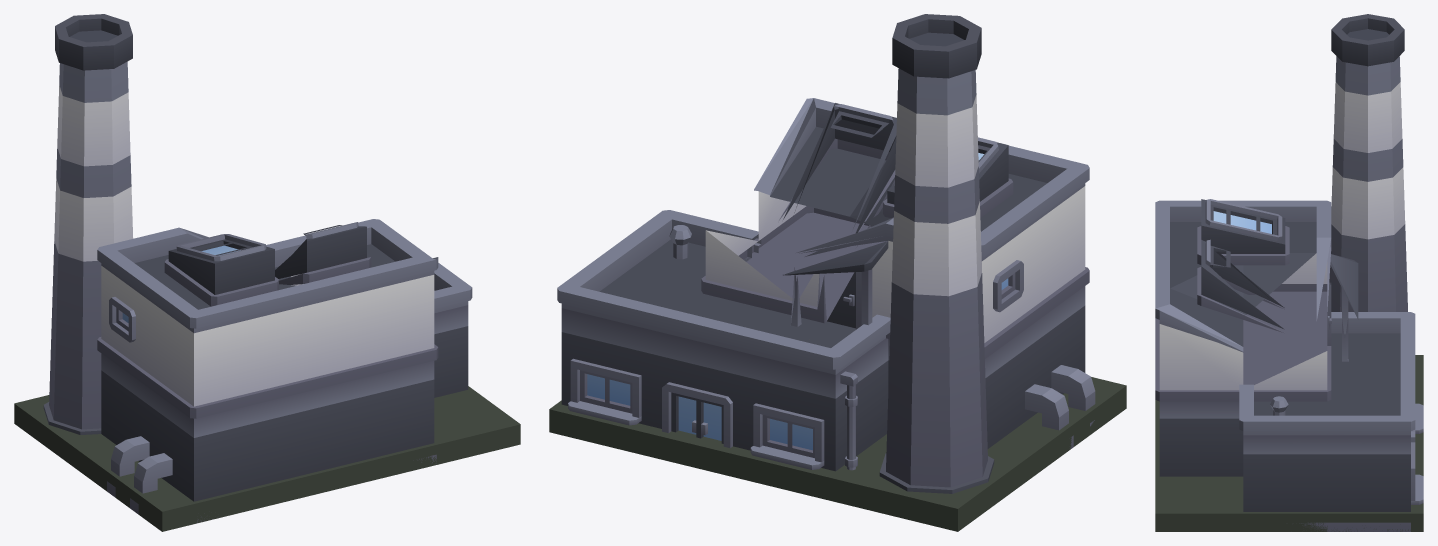
Rendered from building-f-ruined.glb.
3 views of the same model, side by side, from view 1: azimuth 30°, elevation 25°; view 2: azimuth 150°, elevation 25°; view 3: azimuth 270°, elevation 25° (orthographic). The views are drawn at different scales.
Parts seen in each view (by area): view 1: building-f-ruined; view 2: building-f-ruined; view 3: building-f-ruined.
Boxes of the visible parts, x1,y1,x2,y2 form: building-f-ruined: (14, 14, 520, 531); building-f-ruined: (549, 14, 1126, 531); building-f-ruined: (1155, 14, 1423, 531).
Size of the model in its own units: 1.79 by 1.92 by 1.28.
7 materials, 2 textured.
